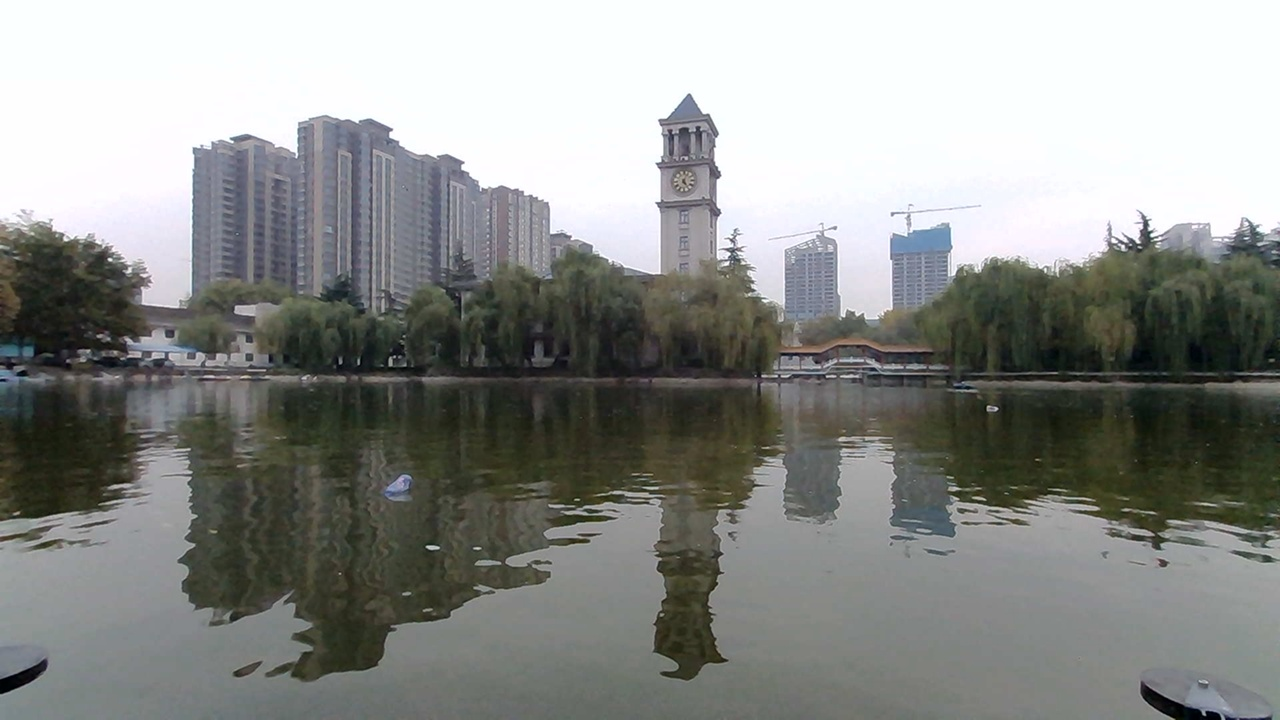bottle: (357, 460, 435, 507), (960, 392, 1017, 420)
